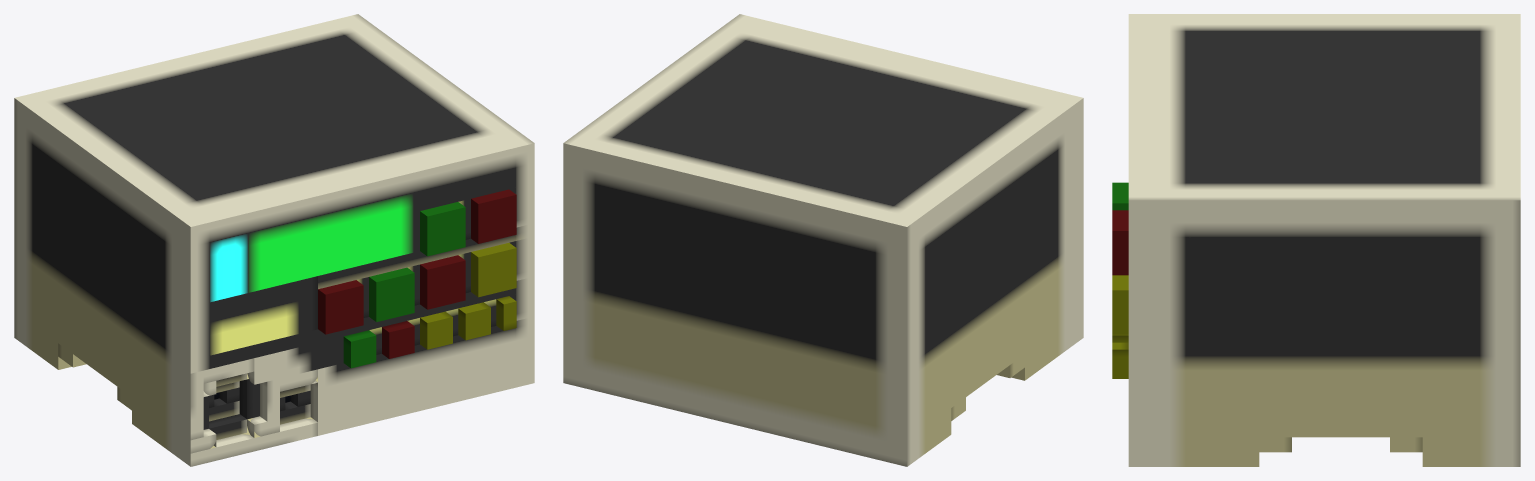
File: urzdz_szpital.dae
The picture shows the model from 3 angles, left to right: view 1: azimuth 30°, elevation 25°; view 2: azimuth 150°, elevation 25°; view 3: azimuth 270°, elevation 25°; orthographic projection. The views are drawn at different scales.
Visible parts, largest first — view 1: Content; view 2: Content; view 3: Content.
Boxes of the visible parts, x1,y1,x2,y2 form: Content: (14, 14, 534, 466); Content: (563, 14, 1083, 466); Content: (1112, 14, 1520, 466).
Size of the model in its own units: 27 by 18 by 25.
1 material, 1 textured.
